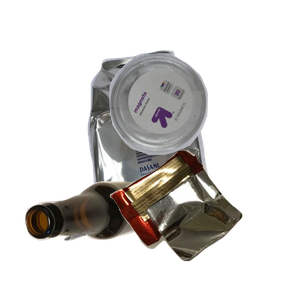glass: (23, 179, 183, 300)
metal: (85, 48, 300, 228)
plastic: (107, 51, 300, 199)
trash: (107, 148, 300, 300)
